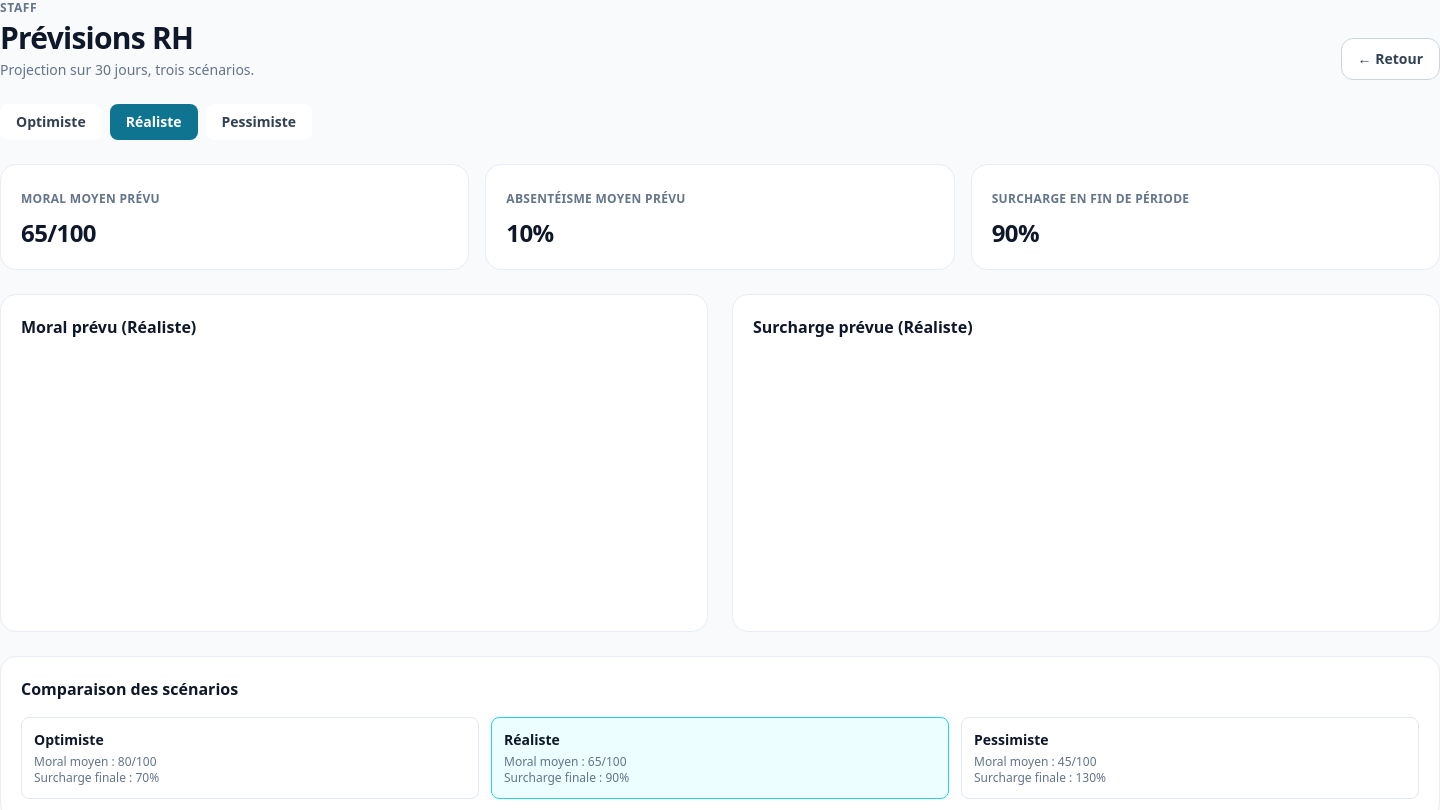
switching scenarios updates the KPIs shown
What coordinates should you click on to do the following:
click the tab "Pessimiste"
I would click on:
 (259, 122)
Its box is [206,104,312,140].
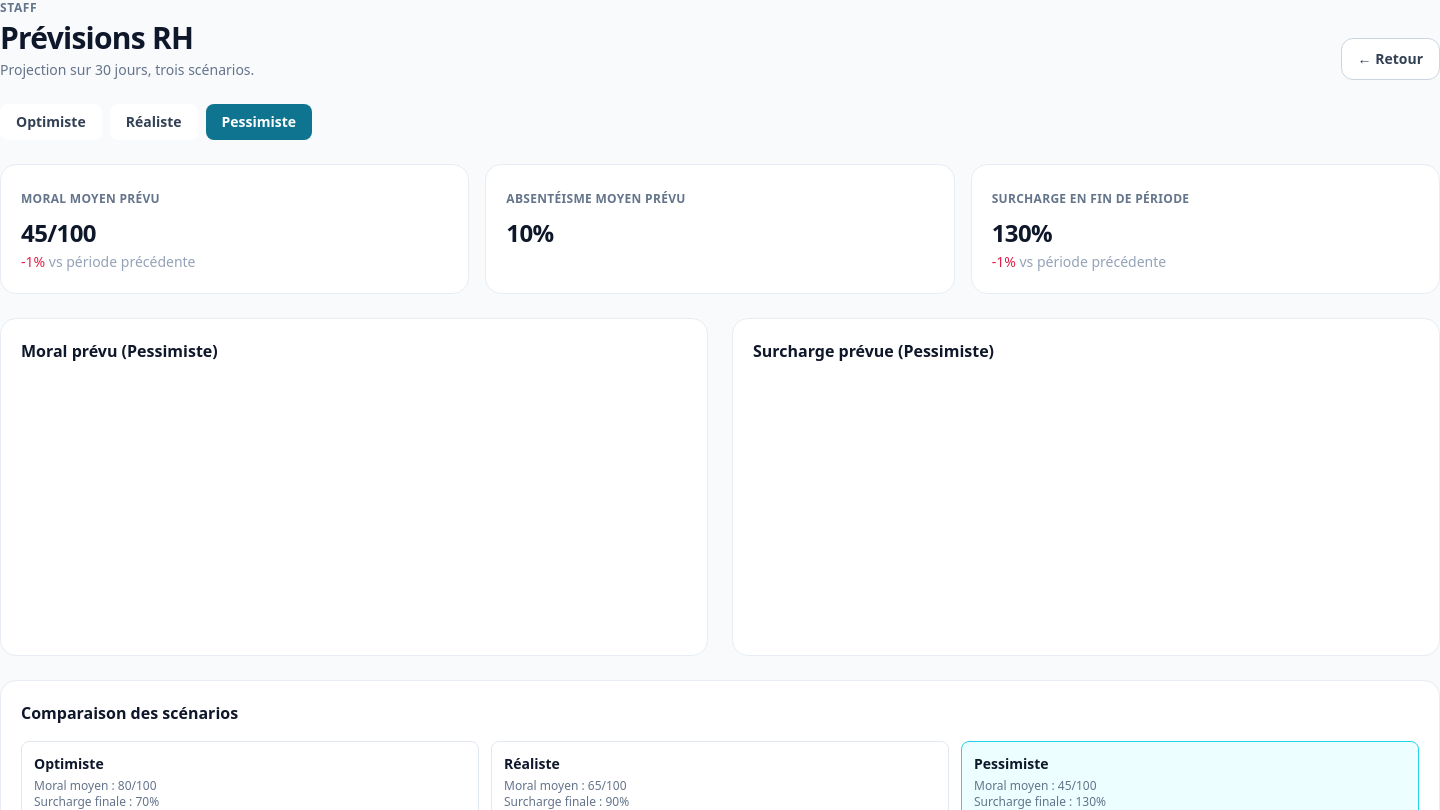
Result: the text "45/100" is shown at [21,216,96,249]
